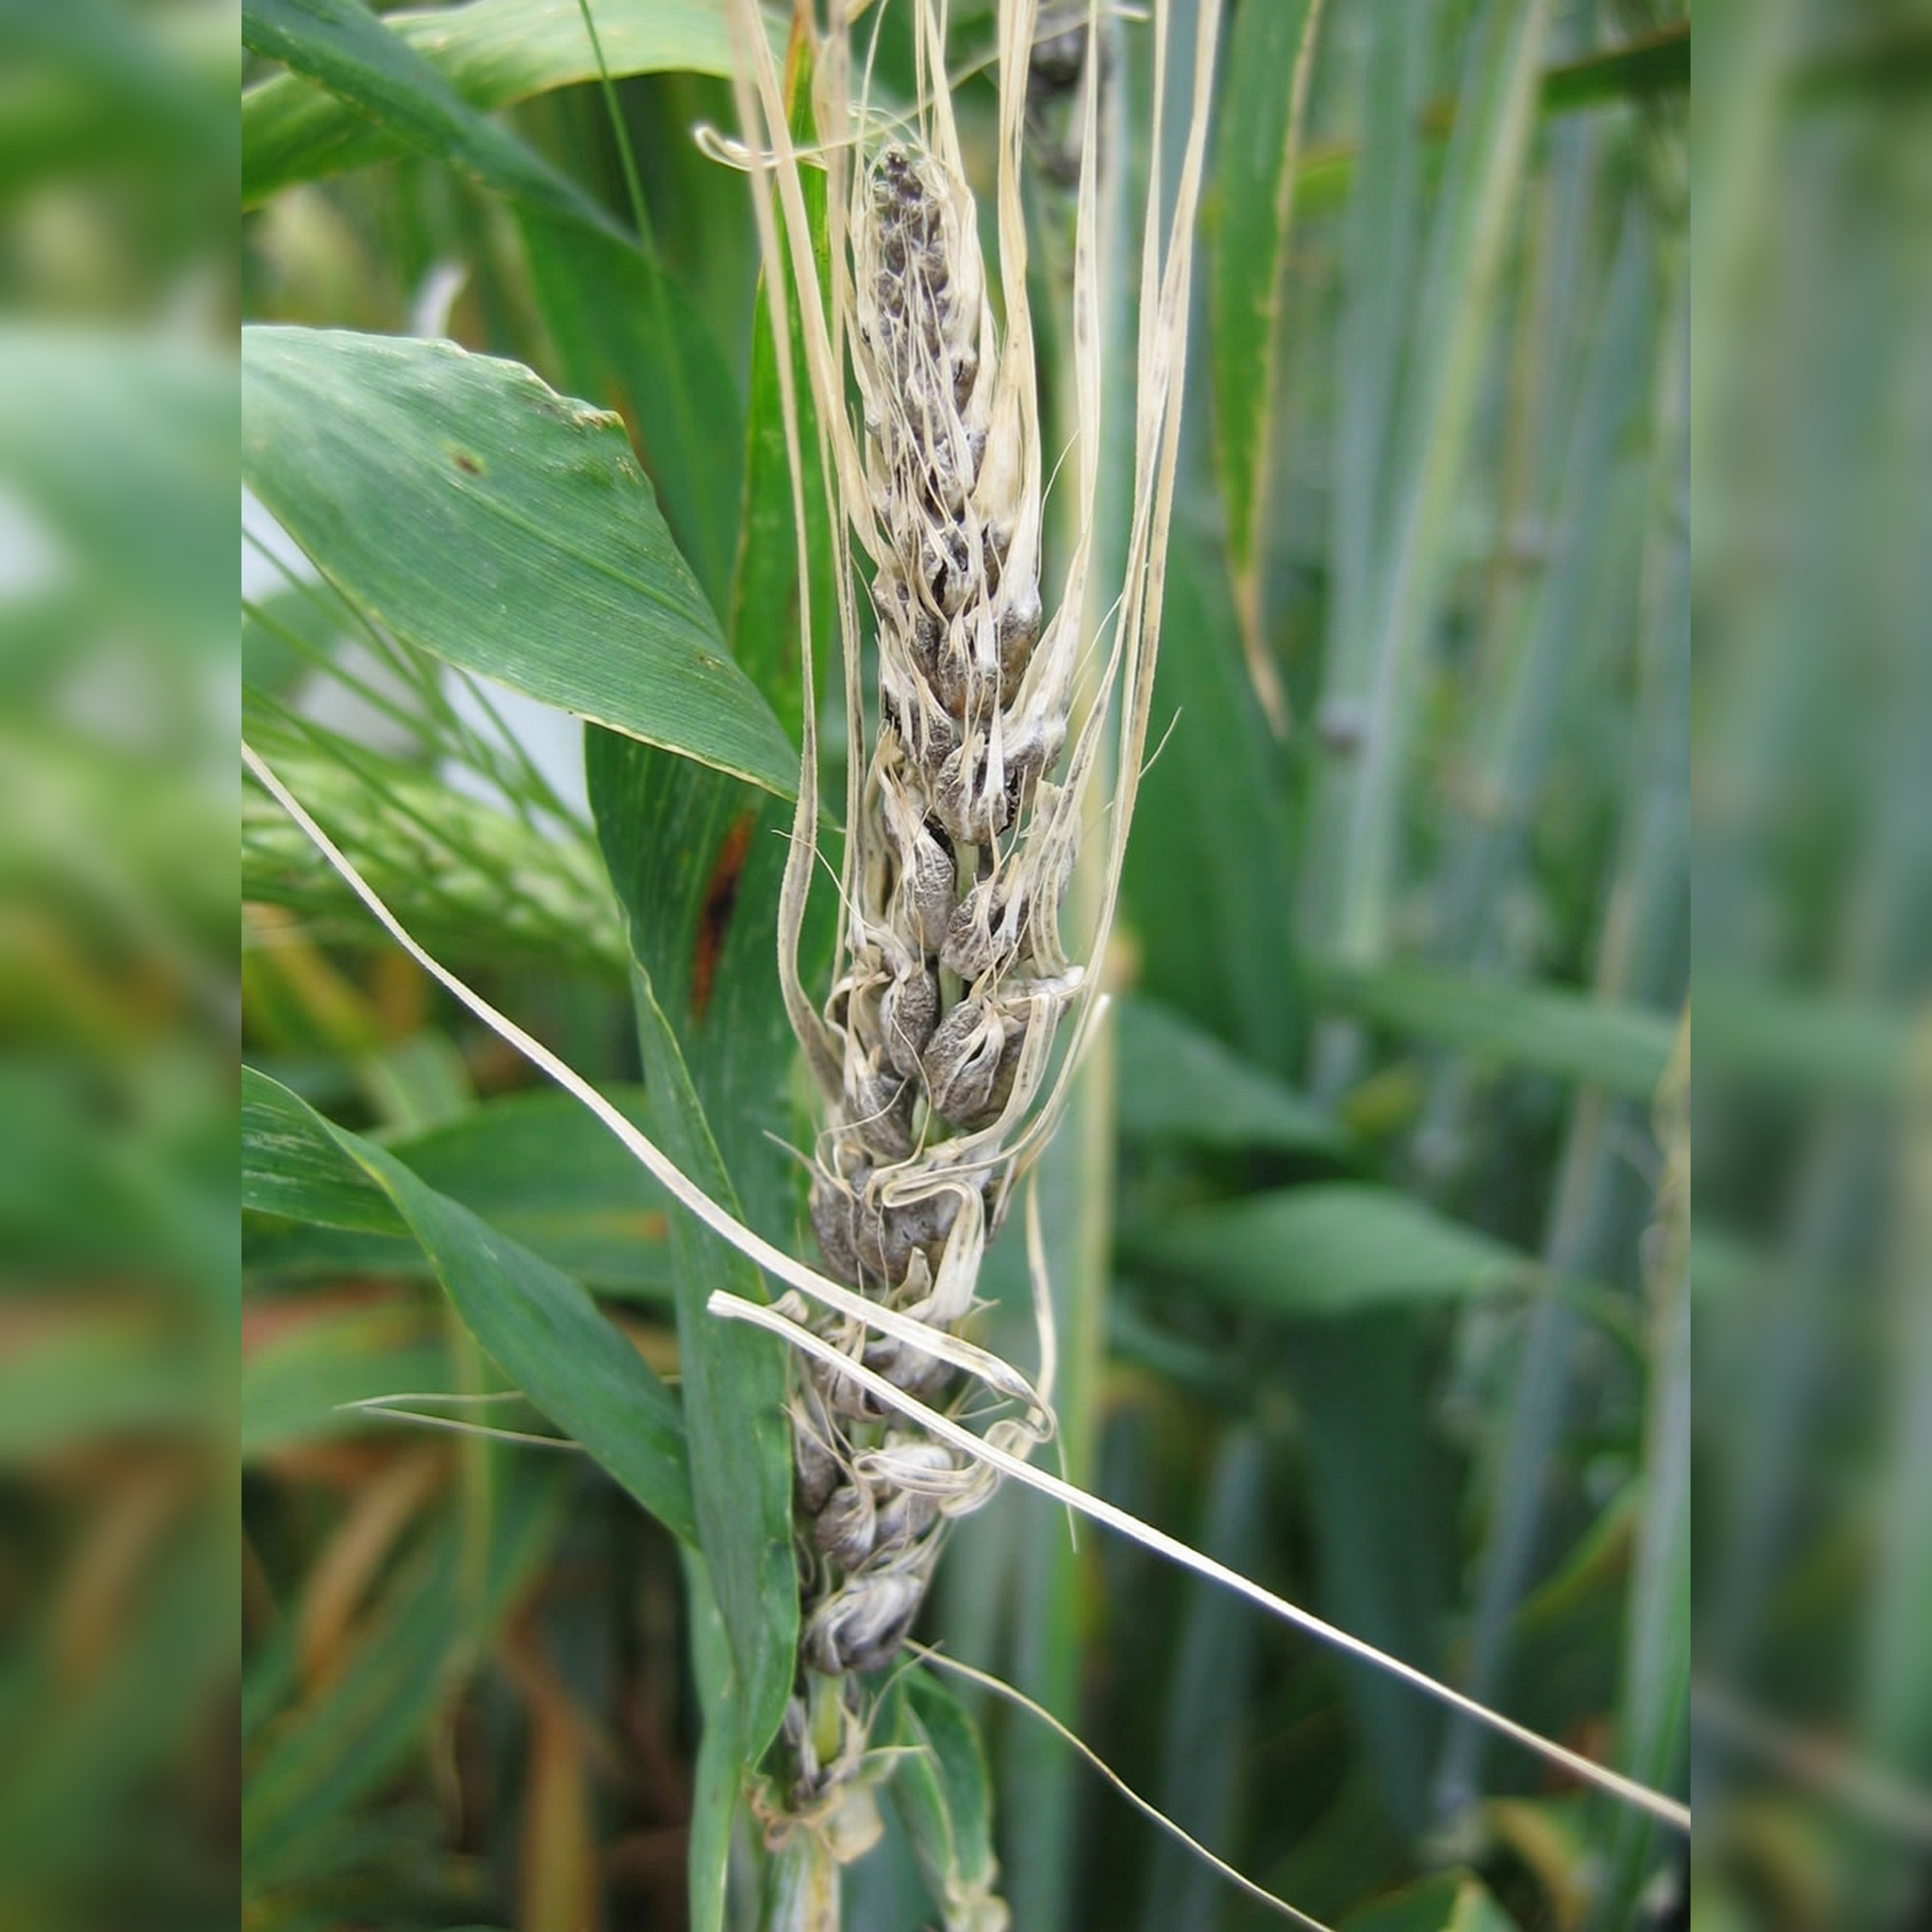Wheat Loose Smut: (722, 126, 1095, 1707)
